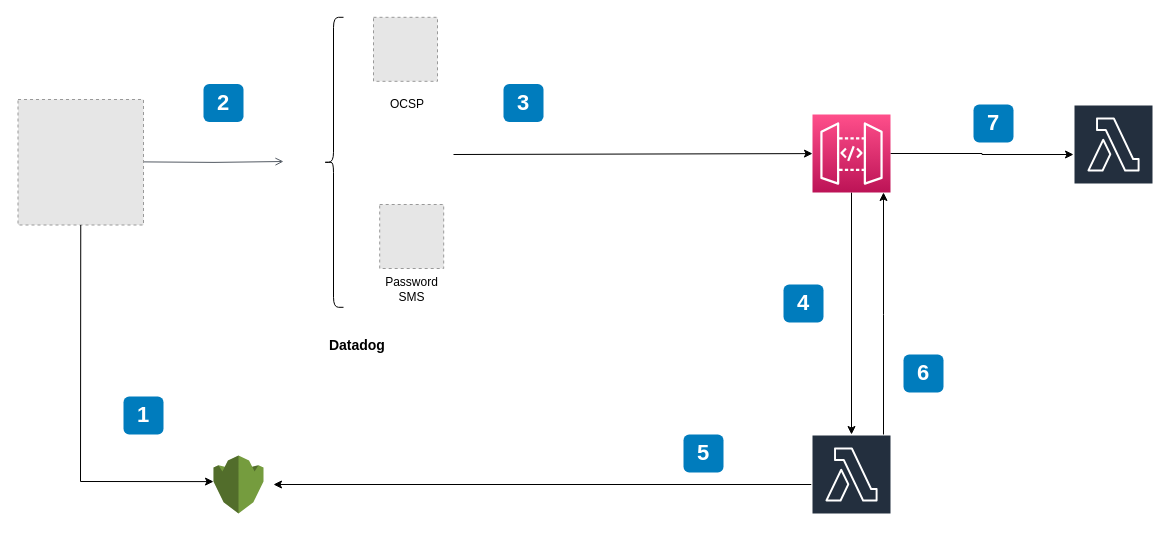
Some shapes in this 1171 by 553 pixel diagram are drawn without their labels. Grey dashed boxes stand in for pictures. The shapes that lost their labels are listed below. From the top down, each one's centre as x and y in pixels, then its label:
At pixel 1113 154: "Lambda".
At pixel 851 484: "Auth lambda".
